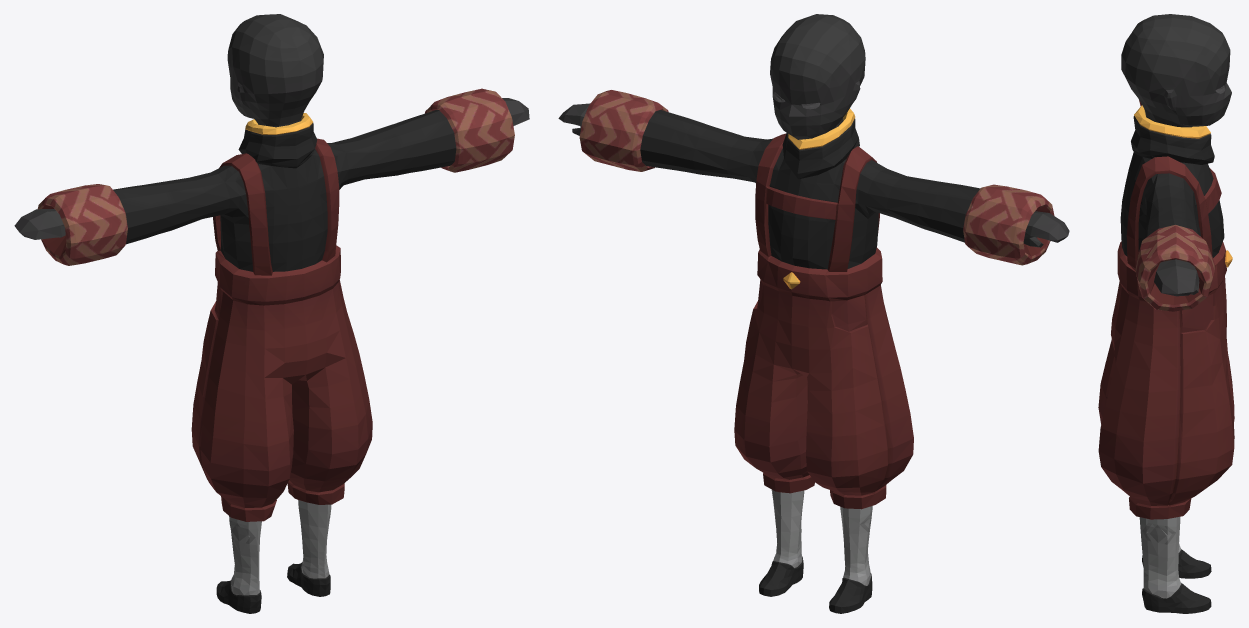
Rendered from CharSkyKid_Body_FeastAttireTrousers.glb.
3 views of the same model, side by side, from view 1: azimuth 30°, elevation 25°; view 2: azimuth 150°, elevation 25°; view 3: azimuth 270°, elevation 25° (orthographic).
Parts seen in each view (by area): view 1: CharSkyKid_Body_FeastAttireTrousers; view 2: CharSkyKid_Body_FeastAttireTrousers; view 3: CharSkyKid_Body_FeastAttireTrousers.
Boxes of the visible parts, left/top/right/bottom form: CharSkyKid_Body_FeastAttireTrousers: left=14, top=14, right=529, bottom=613; CharSkyKid_Body_FeastAttireTrousers: left=558, top=14, right=1069, bottom=613; CharSkyKid_Body_FeastAttireTrousers: left=1098, top=14, right=1234, bottom=613.
Size of the model in its own units: 13.83 by 14.93 by 3.22.
1 material, 1 textured.
